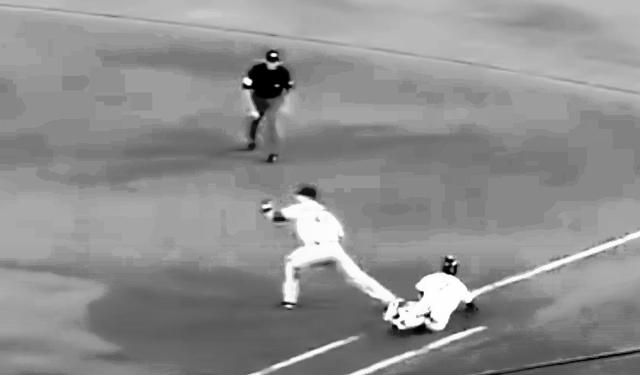jatuh: (377, 252, 483, 340)
